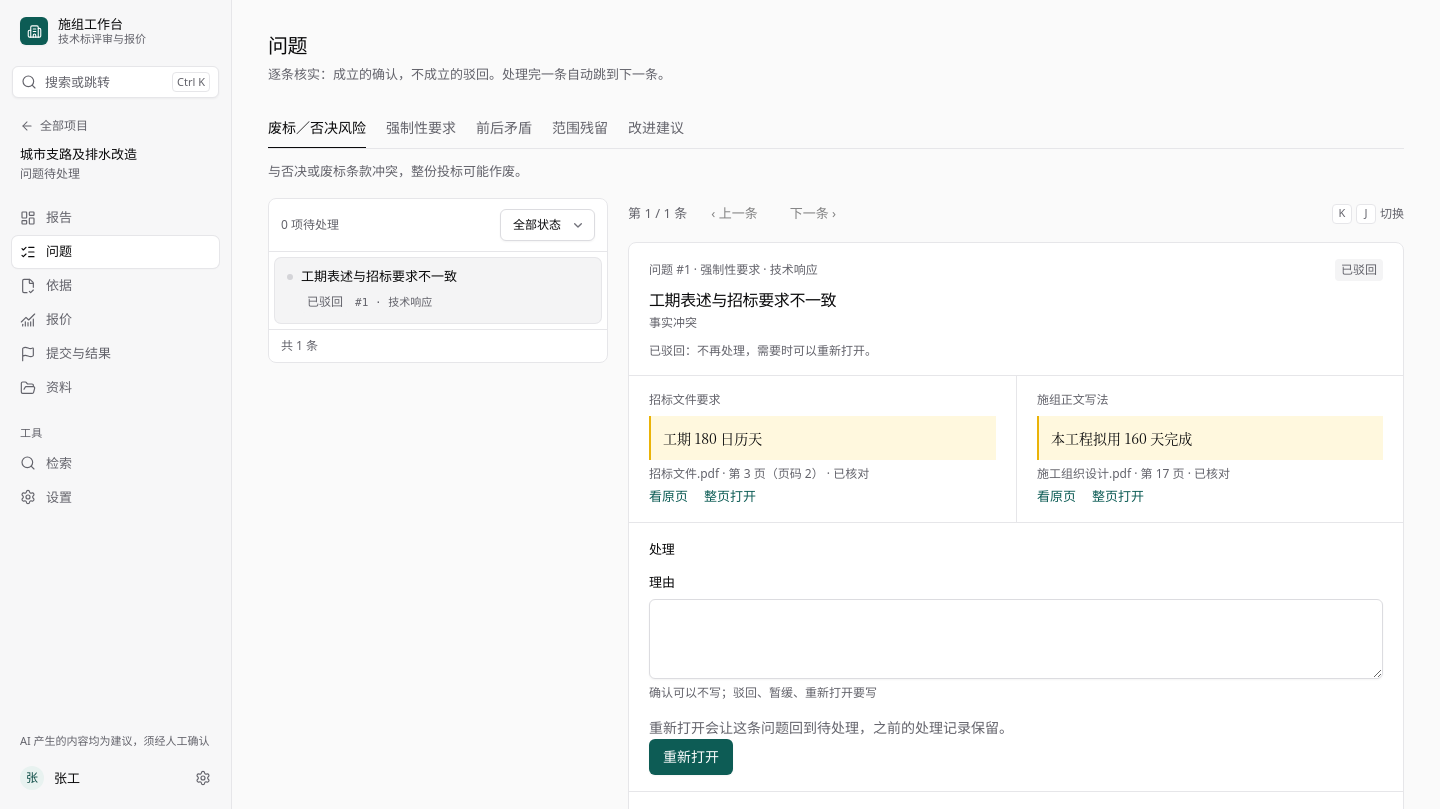
Test case: 问题审核页 › 已驳回、已解决的问题可以“重新打开”，提交 decision=reopen 与理由
Step 1. Type "证据补齐后需要重新判断" into the text box labelled "理由" → (1016, 639), box [649,599,1383,679]
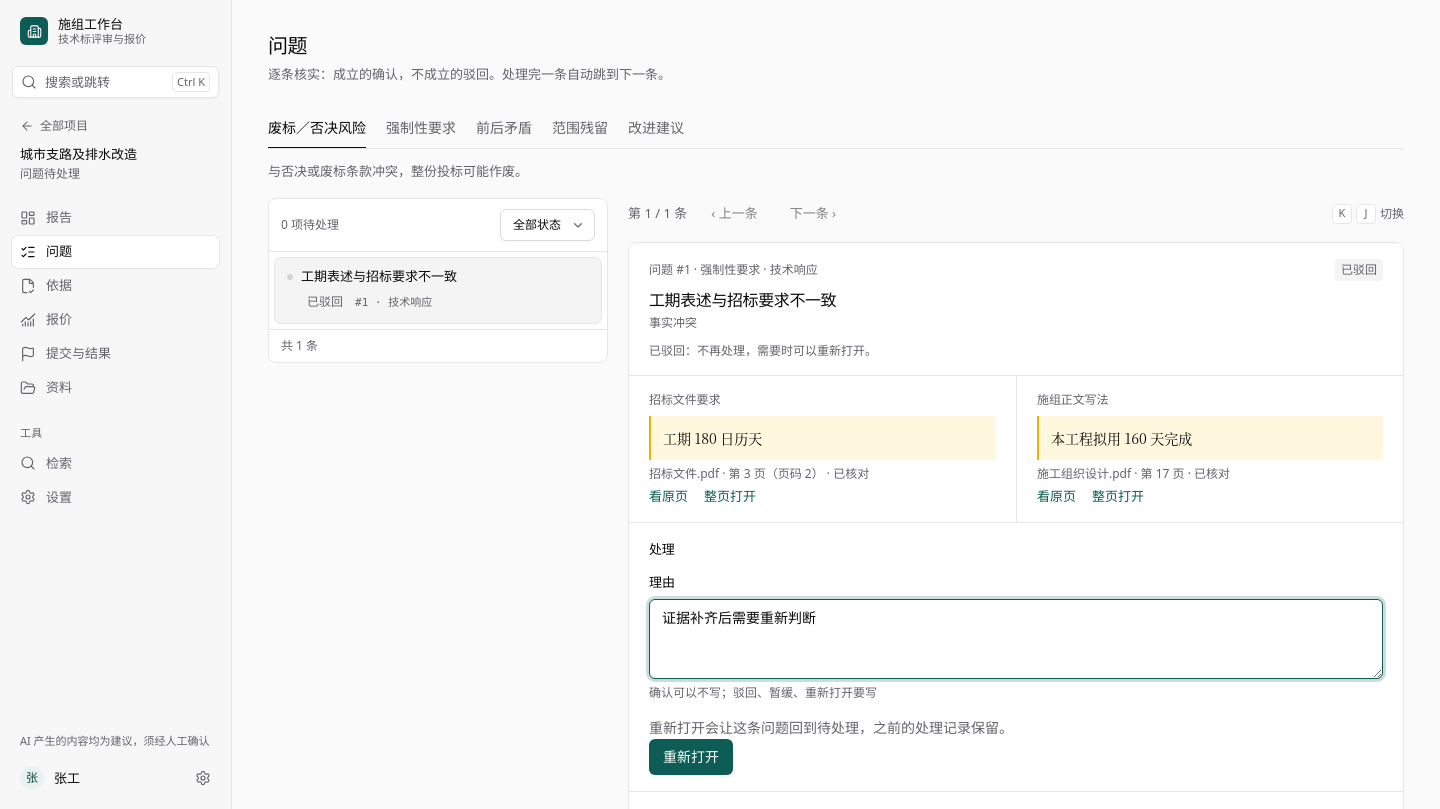
Step 2. Click the button "重新打开" → (691, 757), box [649,739,733,775]
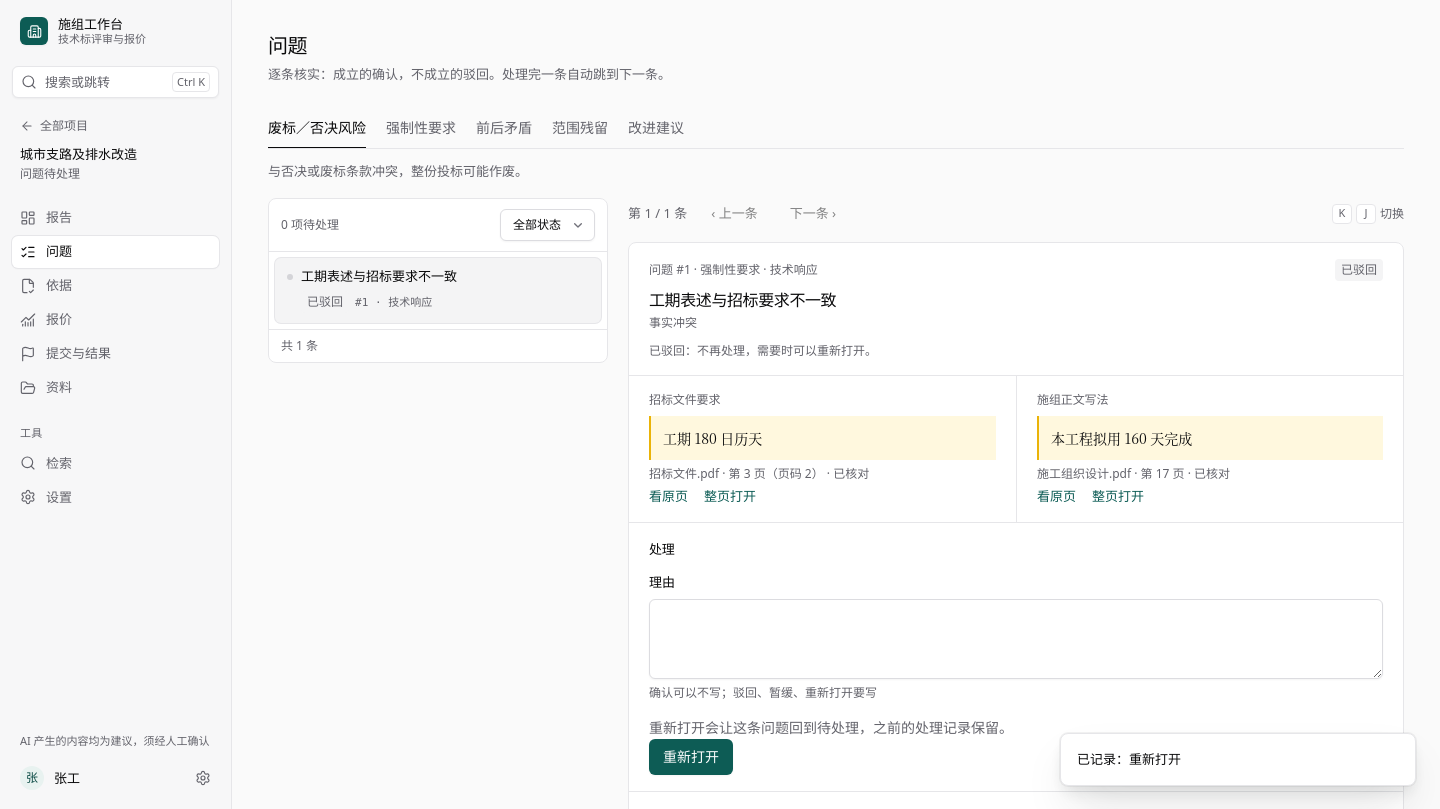
Expected: the text "已记录：重新打开" is shown, [1077,750,1181,769]
